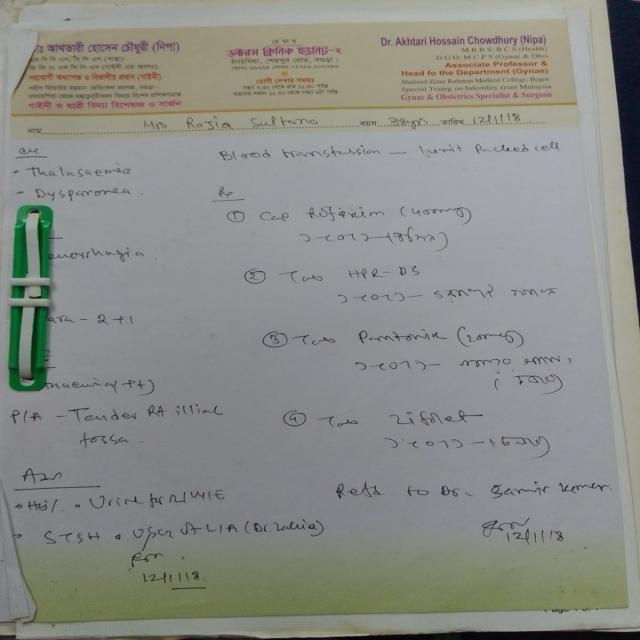HPR-DS: (344, 262, 428, 278)
Pantonix: (349, 323, 451, 349)
Rofixim: (299, 203, 394, 225)
Zifolet: (386, 407, 478, 432)
